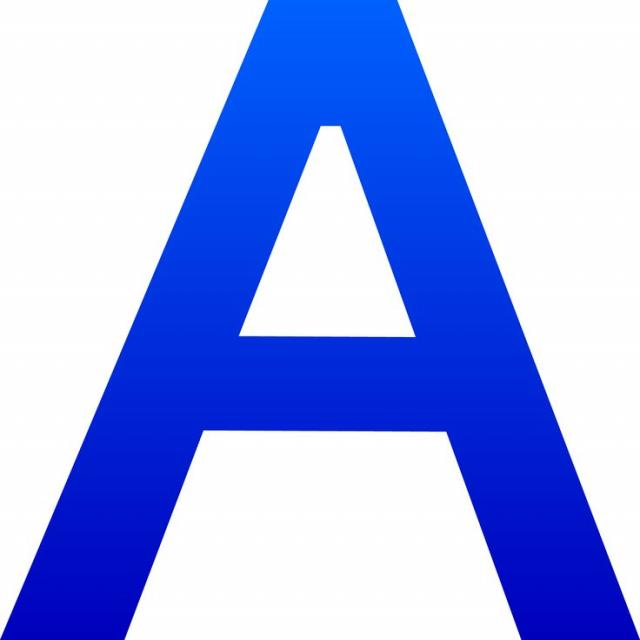A: (1, 2, 636, 639)
